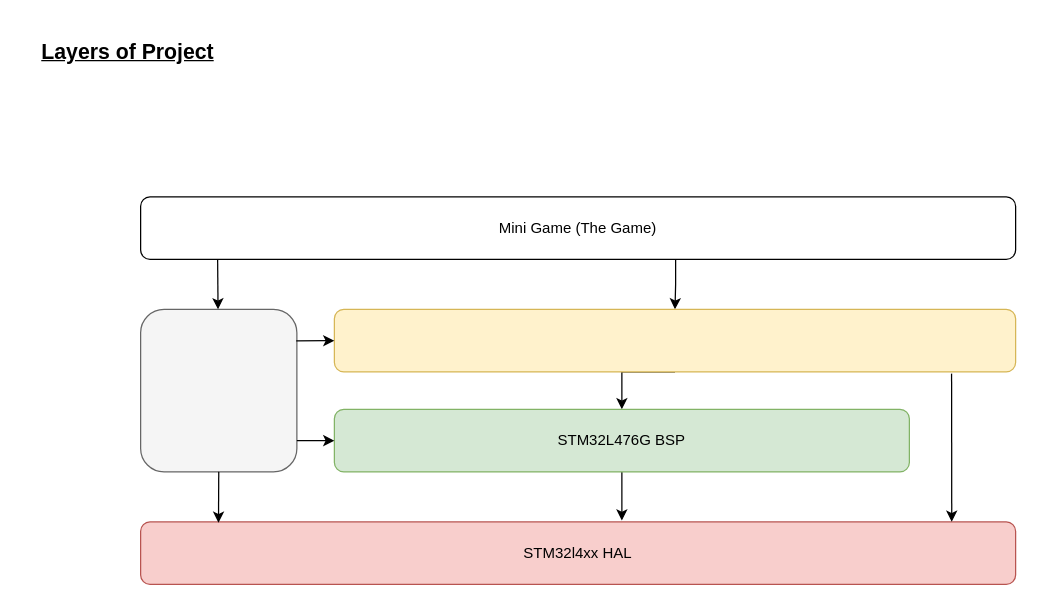
The diagram is 1038 pixels wide and 606 high, and some of its shapes have lost their labels. Each missing label, with the box of its shape:
Usercode HAL: (333, 308, 1016, 372)
Usercode Utilities: (139, 308, 297, 472)
